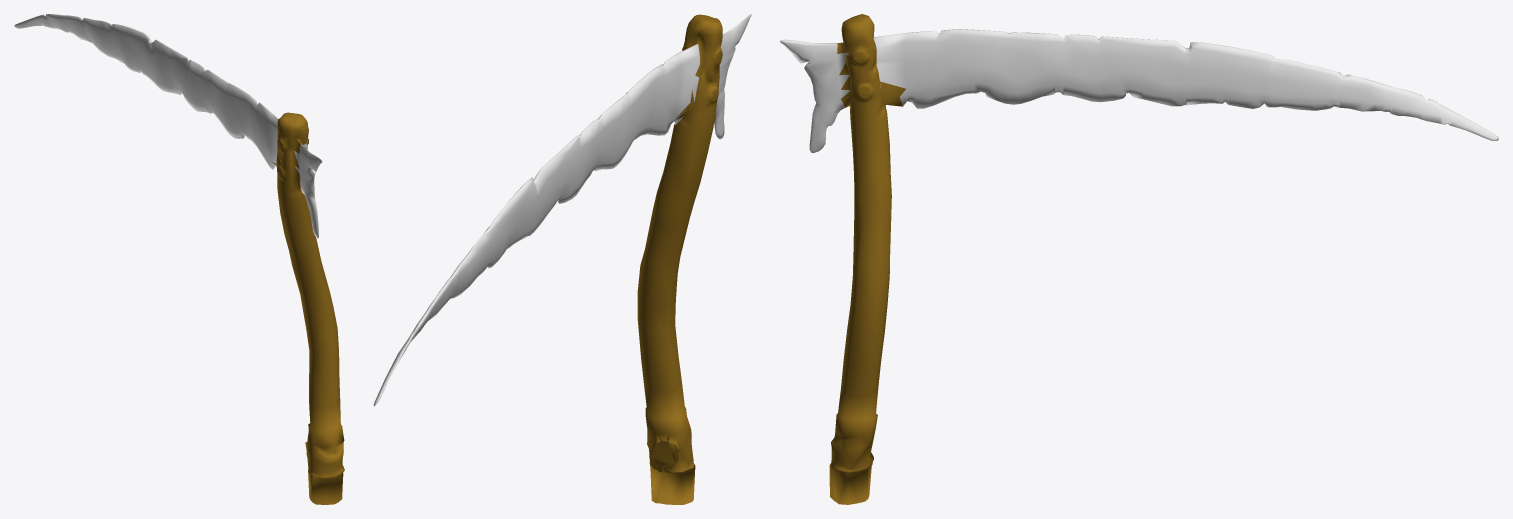
3 renders of one model, left to right at view 1: azimuth 30°, elevation 25°; view 2: azimuth 150°, elevation 25°; view 3: azimuth 270°, elevation 25°, orthographic. The views are drawn at different scales.
Visible parts, largest first — view 1: Scythe; view 2: Scythe; view 3: Scythe.
Boxes of the visible parts, <box> form: Scythe: <box>14,14,344,504</box>; Scythe: <box>373,14,751,504</box>; Scythe: <box>780,14,1498,504</box>.
Size of the model in its own units: 33.08 by 201 by 282.
